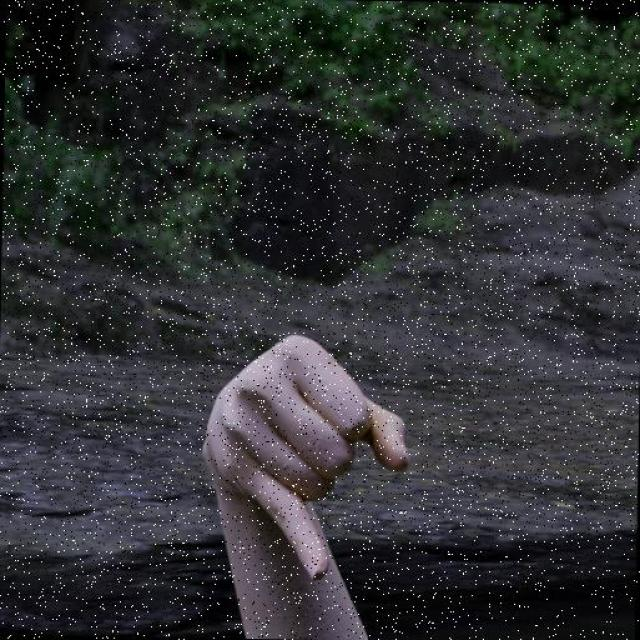J: (194, 327, 420, 588)
